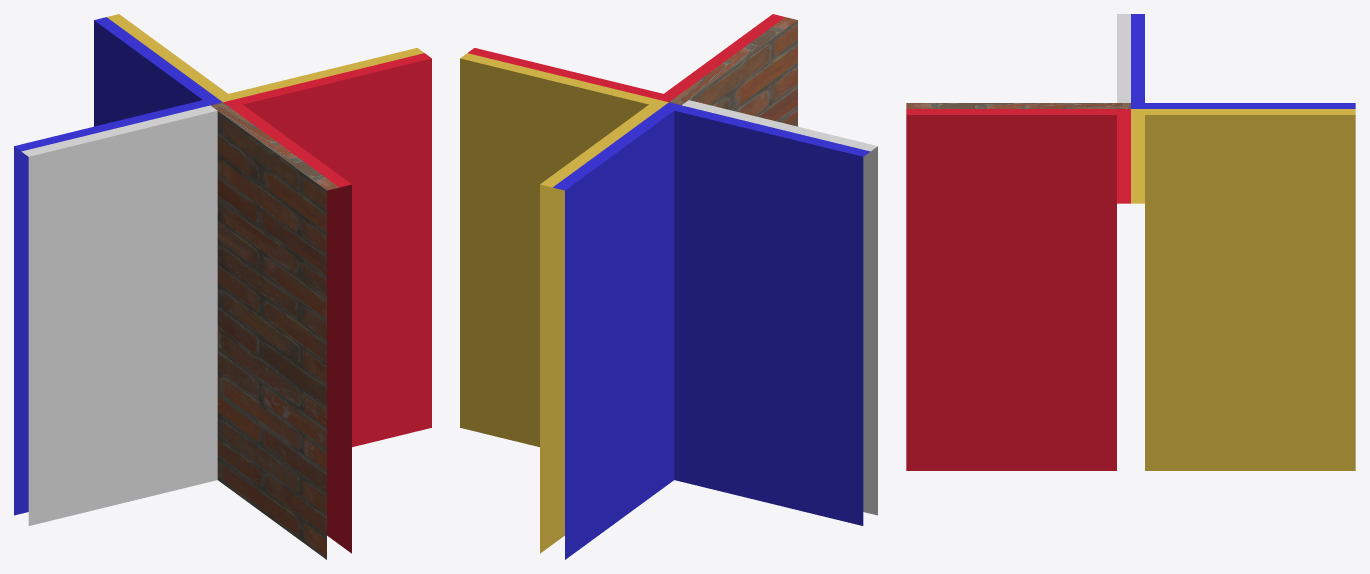
Rendered from +_wall_semincomplete.fbx.
The picture shows the model from 3 angles, left to right: view 1: azimuth 30°, elevation 25°; view 2: azimuth 150°, elevation 25°; view 3: azimuth 270°, elevation 25°; orthographic projection. The views are drawn at different scales.
Parts seen in each view (by area): view 1: + Wall_incom; view 2: + Wall_incom; view 3: + Wall_incom.
Boxes of the visible parts, x1,y1,x2,y2 form: + Wall_incom: (14,14,431,559); + Wall_incom: (460,14,877,559); + Wall_incom: (906,14,1355,470).
Bounding box in the file's own units: 800 × 700 × 800.
